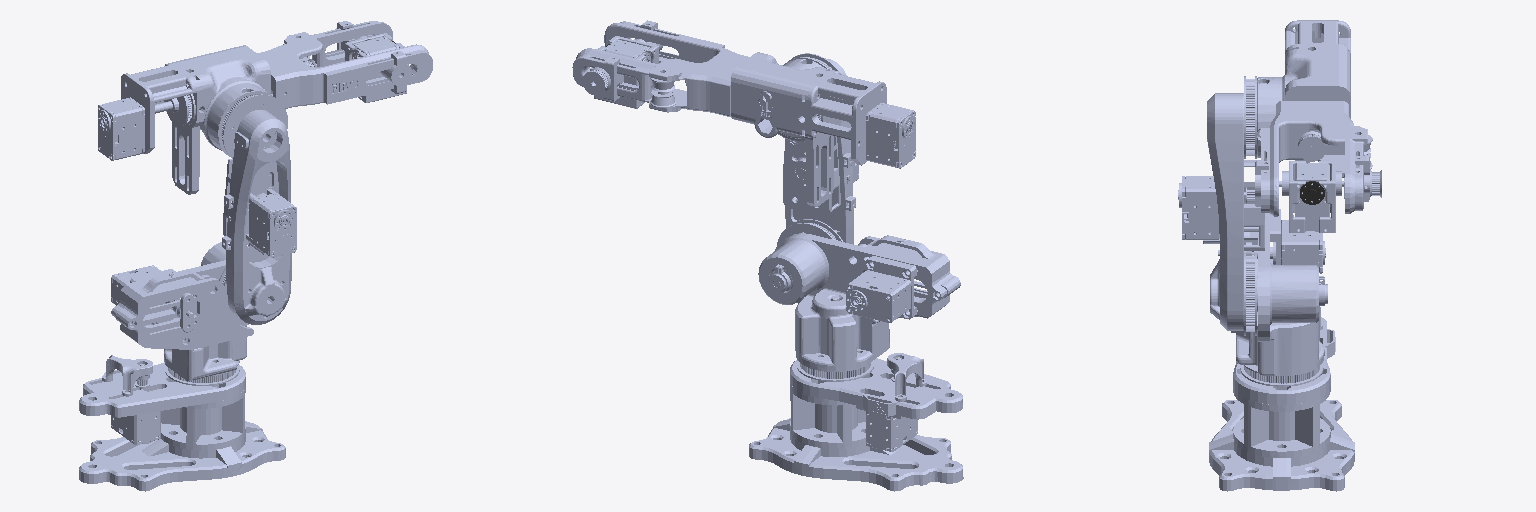
URDF robot description (Assem_For_URDF_4):
<?xml version="1.0" encoding="utf-8"?>
<!-- This URDF was automatically created by SolidWorks to URDF Exporter! Originally created by [author] ([email redacted]) 
     Commit Version: 1.6.0-4-g7f85cfe  Build Version: 1.6.7995.38578
     For more information, please see http://wiki.ros.org/sw_urdf_exporter -->
<robot
  name="Assem_For_URDF_4">
  <link
    name="base_link">
    <inertial>
      <origin
        xyz="-0.0216074510236393 0.00138320568077788 0.0376187171449871"
        rpy="0 0 0" />
      <mass
        value="0.475214910120417" />
      <inertia
        ixx="0.000309139011966979"
        ixy="3.12130470536055E-06"
        ixz="-2.22387340120168E-06"
        iyy="0.00066079147069189"
        iyz="-1.36527582229695E-07"
        izz="0.000863989885151366" />
    </inertial>
    <visual>
      <origin
        xyz="0 0 0"
        rpy="0 0 0" />
      <geometry>
        <mesh
          filename="package://Assem_For_URDF_4/meshes/base_link.STL" />
      </geometry>
      <material
        name="">
        <color
          rgba="0.792156862745098 0.819607843137255 0.933333333333333 1" />
      </material>
    </visual>
    <collision>
      <origin
        xyz="0 0 0"
        rpy="0 0 0" />
      <geometry>
        <mesh
          filename="package://Assem_For_URDF_4/meshes/base_link.STL" />
      </geometry>
    </collision>
  </link>
  <link
    name="Link_1">
    <inertial>
      <origin
        xyz="-0.00731909059024716 -0.003674502118443 0.0591614841945898"
        rpy="0 0 0" />
      <mass
        value="0.417319530633023" />
      <inertia
        ixx="0.00032649987093375"
        ixy="-3.7184025833592E-05"
        ixz="-4.10152058971124E-05"
        iyy="0.000566751328439126"
        iyz="-3.66972683742737E-06"
        izz="0.000406548545333114" />
    </inertial>
    <visual>
      <origin
        xyz="0 0 0"
        rpy="0 0 0" />
      <geometry>
        <mesh
          filename="package://Assem_For_URDF_4/meshes/Link_1.STL" />
      </geometry>
      <material
        name="">
        <color
          rgba="0.792156862745098 0.819607843137255 0.933333333333333 1" />
      </material>
    </visual>
    <collision>
      <origin
        xyz="0 0 0"
        rpy="0 0 0" />
      <geometry>
        <mesh
          filename="package://Assem_For_URDF_4/meshes/Link_1.STL" />
      </geometry>
    </collision>
  </link>
  <joint
    name="Joint_1"
    type="revolute">
    <origin
      xyz="0.000303337003435544 0 0.0819994389411463"
      rpy="0 0.00369924018615807 0" />
    <parent
      link="base_link" />
    <child
      link="Link_1" />
    <axis
      xyz="0 0 1" />
    <limit
      lower="-3.14"
      upper="3.14"
      effort="0"
      velocity="1" />
  </joint>
  <link
    name="Link_2">
    <inertial>
      <origin
        xyz="0.0734168659075962 7.56995029957963E-05 0.0191767970580479"
        rpy="0 0 0" />
      <mass
        value="0.300715908248346" />
      <inertia
        ixx="8.38380446734367E-05"
        ixy="-1.33374170380872E-06"
        ixz="-7.62098336257119E-06"
        iyy="0.000669885497507834"
        iyz="3.15375441851209E-08"
        izz="0.000724354598347122" />
    </inertial>
    <visual>
      <origin
        xyz="0 0 0"
        rpy="0 0 0" />
      <geometry>
        <mesh
          filename="package://Assem_For_URDF_4/meshes/Link_2.STL" />
      </geometry>
      <material
        name="">
        <color
          rgba="0.792156862745098 0.819607843137255 0.933333333333333 1" />
      </material>
    </visual>
    <collision>
      <origin
        xyz="0 0 0"
        rpy="0 0 0" />
      <geometry>
        <mesh
          filename="package://Assem_For_URDF_4/meshes/Link_2.STL" />
      </geometry>
    </collision>
  </link>
  <joint
    name="Joint_2"
    type="revolute">
    <origin
      xyz="0.0375000000000592 -0.0205000000000055 0.0856000000000066"
      rpy="1.5707963267949 -1.5707963267949 0" />
    <parent
      link="Link_1" />
    <child
      link="Link_2" />
    <axis
      xyz="0 0 1" />
    <limit
      lower="-1.57"
      upper="1.57"
      effort="0"
      velocity="0" />
  </joint>
  <link
    name="Link_3">
    <inertial>
      <origin
        xyz="0.011033510621175 0.0240719142613894 -0.0535551795021227"
        rpy="0 0 0" />
      <mass
        value="0.37021353248799" />
      <inertia
        ixx="0.000293166178750939"
        ixy="2.3717236535901E-05"
        ixz="3.55106264580677E-05"
        iyy="0.000282711546109057"
        iyz="7.15635625798389E-06"
        izz="0.000309668616452184" />
    </inertial>
    <visual>
      <origin
        xyz="0 0 0"
        rpy="0 0 0" />
      <geometry>
        <mesh
          filename="package://Assem_For_URDF_4/meshes/Link_3.STL" />
      </geometry>
      <material
        name="">
        <color
          rgba="0.792156862745098 0.819607843137255 0.933333333333333 1" />
      </material>
    </visual>
    <collision>
      <origin
        xyz="0 0 0"
        rpy="0 0 0" />
      <geometry>
        <mesh
          filename="package://Assem_For_URDF_4/meshes/Link_3.STL" />
      </geometry>
    </collision>
  </link>
  <joint
    name="Joint_3"
    type="revolute">
    <origin
      xyz="0.160000000000011 0 0.0106000000000002"
      rpy="0 0 0" />
    <parent
      link="Link_2" />
    <child
      link="Link_3" />
    <axis
      xyz="0 0 1" />
    <limit
      lower="-1.57"
      upper="0.78"
      effort="0"
      velocity="0" />
  </joint>
  <link
    name="Link_4">
    <inertial>
      <origin
        xyz="0.000248923198615358 9.03636185469736E-05 0.0591805741949152"
        rpy="0 0 0" />
      <mass
        value="0.178462655574159" />
      <inertia
        ixx="0.000321513786099384"
        ixy="2.27369804849159E-07"
        ixz="8.49711839232133E-06"
        iyy="0.000407029231521837"
        iyz="-2.25011079768768E-07"
        izz="0.000123512407963722" />
    </inertial>
    <visual>
      <origin
        xyz="0 0 0"
        rpy="0 0 0" />
      <geometry>
        <mesh
          filename="package://Assem_For_URDF_4/meshes/Link_4.STL" />
      </geometry>
      <material
        name="">
        <color
          rgba="0.792156862745098 0.819607843137255 0.933333333333333 1" />
      </material>
    </visual>
    <collision>
      <origin
        xyz="0 0 0"
        rpy="0 0 0" />
      <geometry>
        <mesh
          filename="package://Assem_For_URDF_4/meshes/Link_4.STL" />
      </geometry>
    </collision>
  </link>
  <joint
    name="Joint_4"
    type="revolute">
    <origin
      xyz="0.0149522648753191 -0.0364199999999313 -0.0559992382663665"
      rpy="1.5707963267949 1.5707963267949 0" />
    <parent
      link="Link_3" />
    <child
      link="Link_4" />
    <axis
      xyz="0 0 1" />
    <limit
      lower="-3.14"
      upper="3.14"
      effort="0"
      velocity="0" />
  </joint>
  <link
    name="Link_5">
    <inertial>
      <origin
        xyz="-0.0114662695143011 -0.000138554136278835 -0.000132693426966313"
        rpy="0 0 0" />
      <mass
        value="0.0672688834833179" />
      <inertia
        ixx="1.09113411559099E-05"
        ixy="1.07386558109932E-07"
        ixz="-4.82529606048713E-09"
        iyy="1.42083359729711E-05"
        iyz="4.04586076831215E-09"
        izz="1.91003241585318E-05" />
    </inertial>
    <visual>
      <origin
        xyz="0 0 0"
        rpy="0 0 0" />
      <geometry>
        <mesh
          filename="package://Assem_For_URDF_4/meshes/Link_5.STL" />
      </geometry>
      <material
        name="">
        <color
          rgba="0.792156862745098 0.819607843137255 0.933333333333333 1" />
      </material>
    </visual>
    <collision>
      <origin
        xyz="0 0 0"
        rpy="0 0 0" />
      <geometry>
        <mesh
          filename="package://Assem_For_URDF_4/meshes/Link_5.STL" />
      </geometry>
    </collision>
  </link>
  <joint
    name="Joint_5"
    type="revolute">
    <origin
      xyz="0 -7.72648751805605E-05 0.122277700100244"
      rpy="-1.57079632679489 0.00369924018615449 1.5707963267949" />
    <parent
      link="Link_4" />
    <child
      link="Link_5" />
    <axis
      xyz="0 0 1" />
    <limit
      lower="-3.14"
      upper="3.14"
      effort="0"
      velocity="0" />
  </joint>
  <link
    name="Link_6">
    <inertial>
      <origin
        xyz="-1.34130466591387E-05 -0.00264160927556301 -1.77635683940025E-14"
        rpy="0 0 1.5708" />
      <mass
        value="0.000720744186586625" />
      <inertia
        ixx="1.75547972627631E-08"
        ixy="3.02612394875161E-22"
        ixz="8.25294842264358E-22"
        iyy="3.40052371755491E-08"
        iyz="-8.2151751295659E-22"
        izz="1.75547972627639E-08" />
    </inertial>
    <visual>
      <origin
        xyz="0 0 0"
        rpy="0 0 0" />
      <geometry>
        <mesh
          filename="package://Assem_For_URDF_4/meshes/Link_6.STL" />
      </geometry>
      <material
        name="">
        <color
          rgba="0.250980392156863 0.250980392156863 0.250980392156863 1" />
      </material>
    </visual>
    <collision>
      <origin
        xyz="0 0 0"
        rpy="0 0 0" />
      <geometry>
        <mesh
          filename="package://Assem_For_URDF_4/meshes/Link_6.STL" />
      </geometry>
    </collision>
  </link>
  <joint
    name="Joint_6"
    type="revolute">
    <origin
      xyz="0 -0.0208999999999939 0"
      rpy="-3.14159265358975 0 0" />
    <parent
      link="Link_5" />
    <child
      link="Link_6" />
    <axis
      xyz="1 0 0" />
    <limit
      lower="-3.14"
      upper="3.14"
      effort="0"
      velocity="0" />
  </joint>
</robot>

--- What the picture shows (computed from the rendered views, not written in the file) ---
Views: 3 orthographic renders of the robot side by side, from view 1: azimuth 30°, elevation 25°; view 2: azimuth 150°, elevation 25°; view 3: azimuth 270°, elevation 25°.
Robot: Assem_For_URDF_4 — 7 links, 6 joints (6 revolute); root link base_link; default pose: every joint at zero.
Visible links, largest first — view 1: base_link, Link_2, Link_3, Link_1, Link_4, Link_5; view 2: Link_1, base_link, Link_3, Link_4, Link_2, Link_5; view 3: base_link, Link_2, Link_1, Link_4, Link_3, Link_5.
Boxes of the visible links, bbox=[...] form: base_link: bbox=[79, 355, 285, 491]; Link_2: bbox=[218, 91, 296, 324]; Link_3: bbox=[98, 45, 270, 194]; Link_1: bbox=[111, 242, 253, 385]; Link_4: bbox=[257, 21, 432, 108]; Link_5: bbox=[345, 33, 406, 102]; Link_1: bbox=[758, 233, 960, 381]; base_link: bbox=[749, 296, 963, 491]; Link_3: bbox=[731, 52, 915, 206]; Link_4: bbox=[572, 20, 748, 117]; Link_2: bbox=[776, 53, 858, 247]; Link_5: bbox=[594, 36, 658, 108]; base_link: bbox=[1209, 307, 1354, 491]; Link_2: bbox=[1178, 76, 1264, 335]; Link_1: bbox=[1218, 204, 1327, 386]; Link_4: bbox=[1255, 101, 1381, 216]; Link_3: bbox=[1257, 20, 1350, 163]; Link_5: bbox=[1279, 161, 1343, 232].
Size in the robot's own frame: 0.3637 by 0.167 by 0.373 metres.
7 mesh visuals loaded from 7 distinct referenced files (7 binary STL).